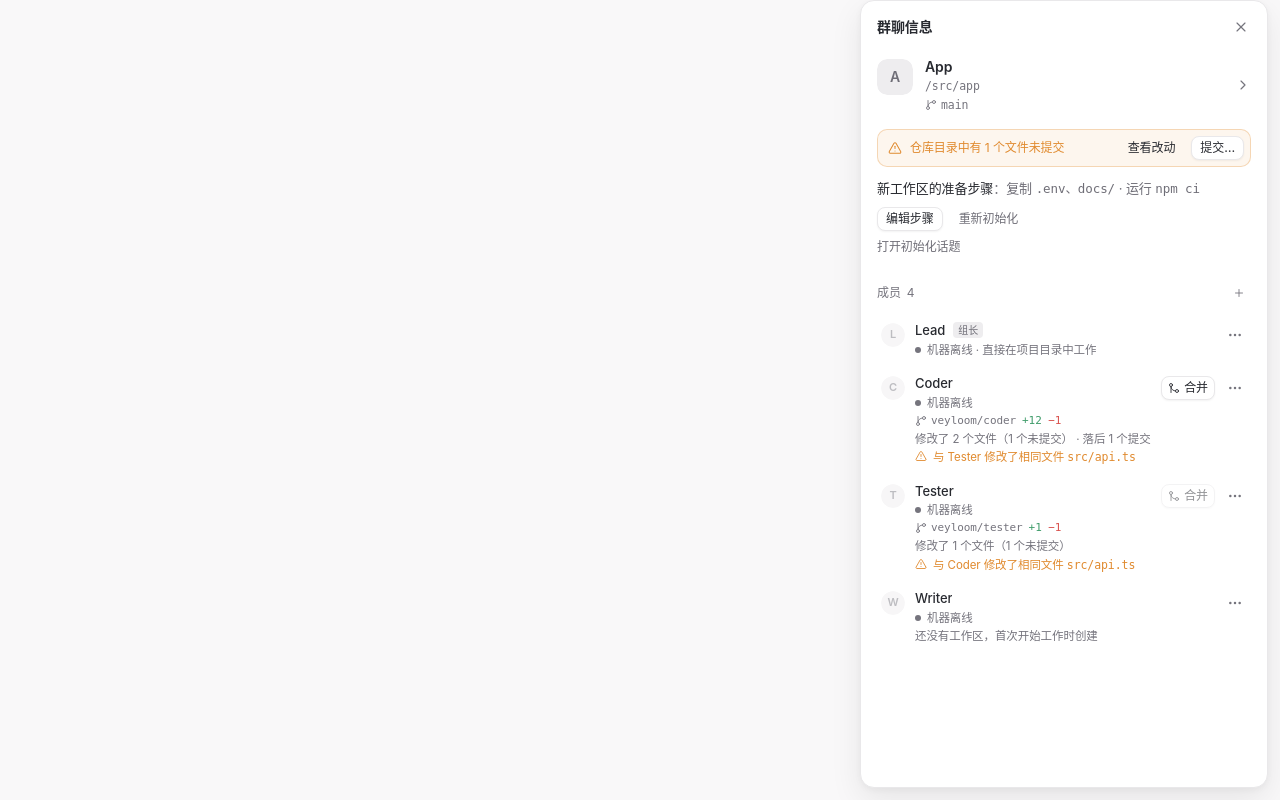
Test case: branches in the chat’s info › merges a member’s work, naming the work on its branch and the files another member changed too
The width and height of the screenshot is (1280, 800).
Click the 1st button "合并" at coordinates (1188, 388), box [1161, 376, 1215, 400]
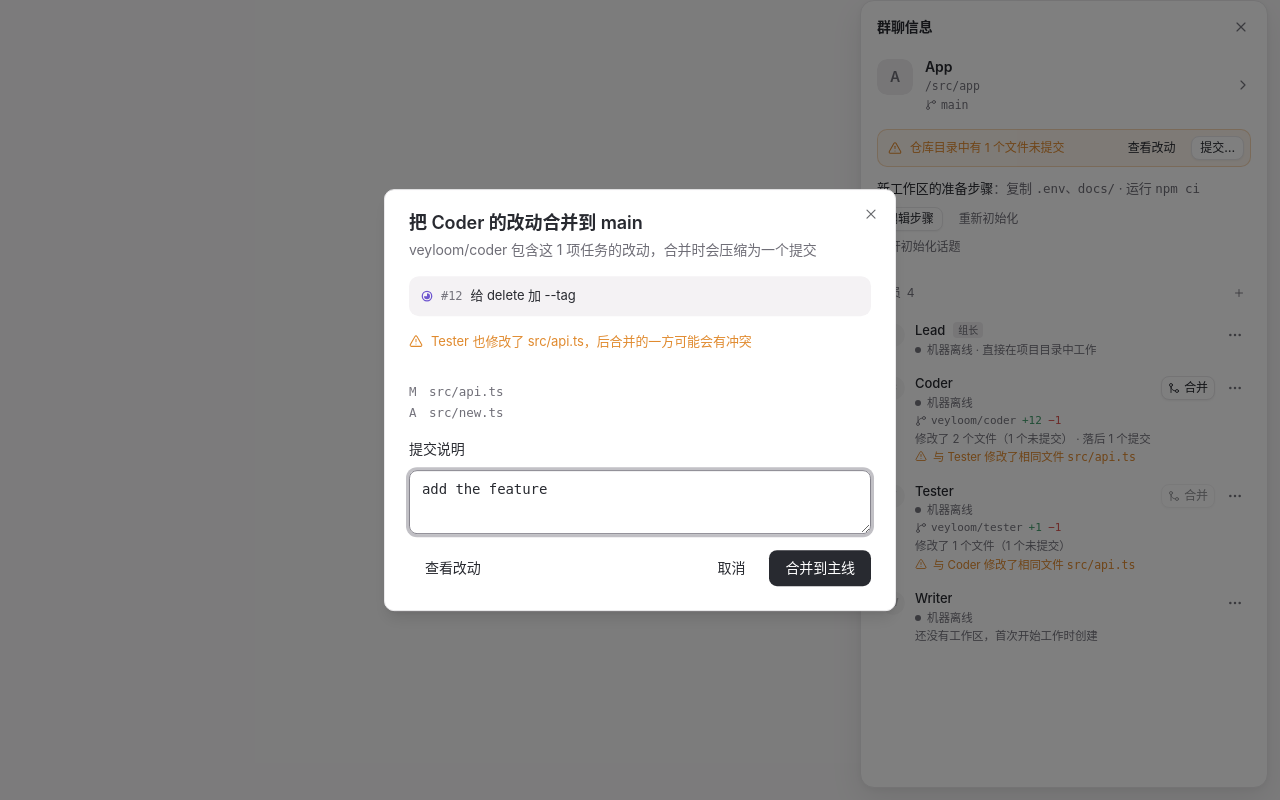
Result: the text "veyloom/coder 包含这 1 项任务的改动，合并时会压缩为一个提交" is shown at [409, 240, 871, 260]
Result: the text "Tester 也修改了 src/api.ts，后合并的一方可能会有冲突" is shown at [431, 332, 752, 351]
Result: the text "src/new.ts" is shown at [429, 404, 504, 423]
Replace the text in the text box labelled "提交说明" with "Add the feature (Coder)" at coordinates (640, 502), box [409, 470, 871, 534]
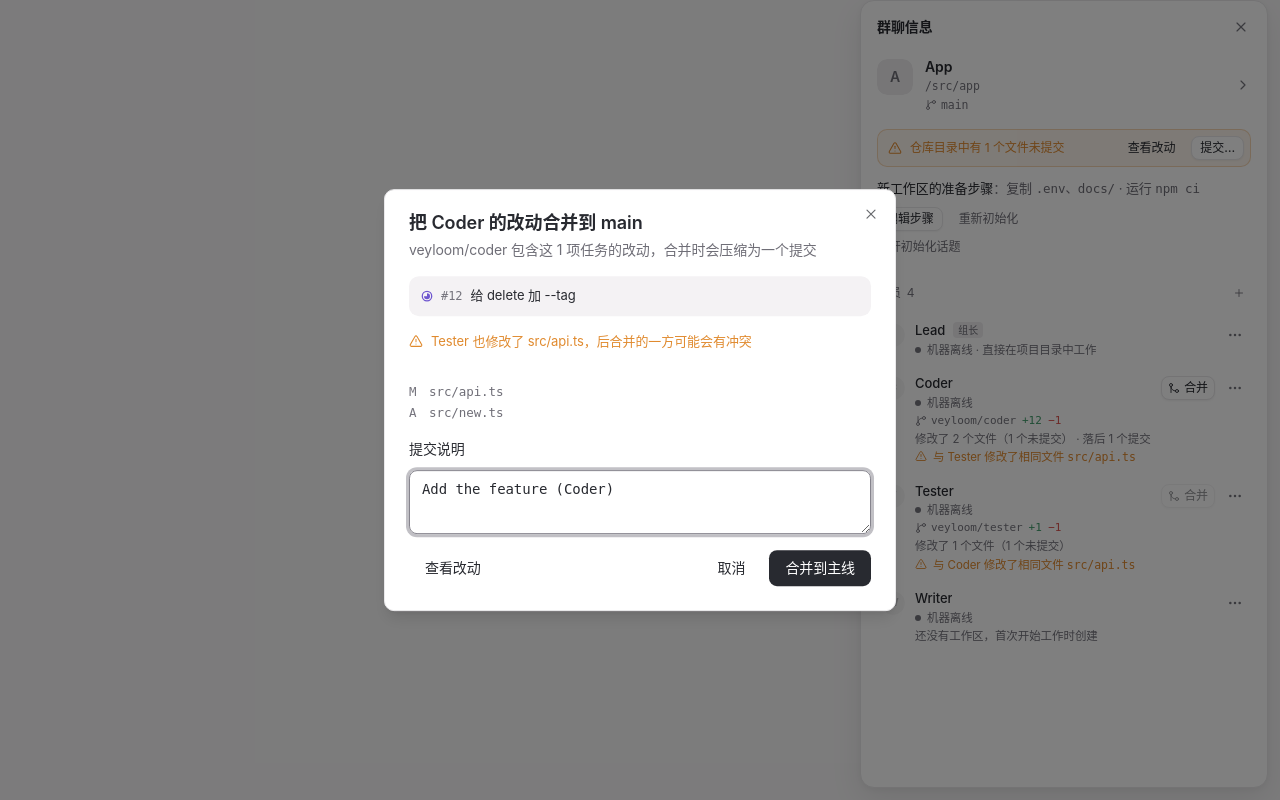
Click the button "合并到主线" at coordinates (820, 568), box [769, 550, 871, 586]
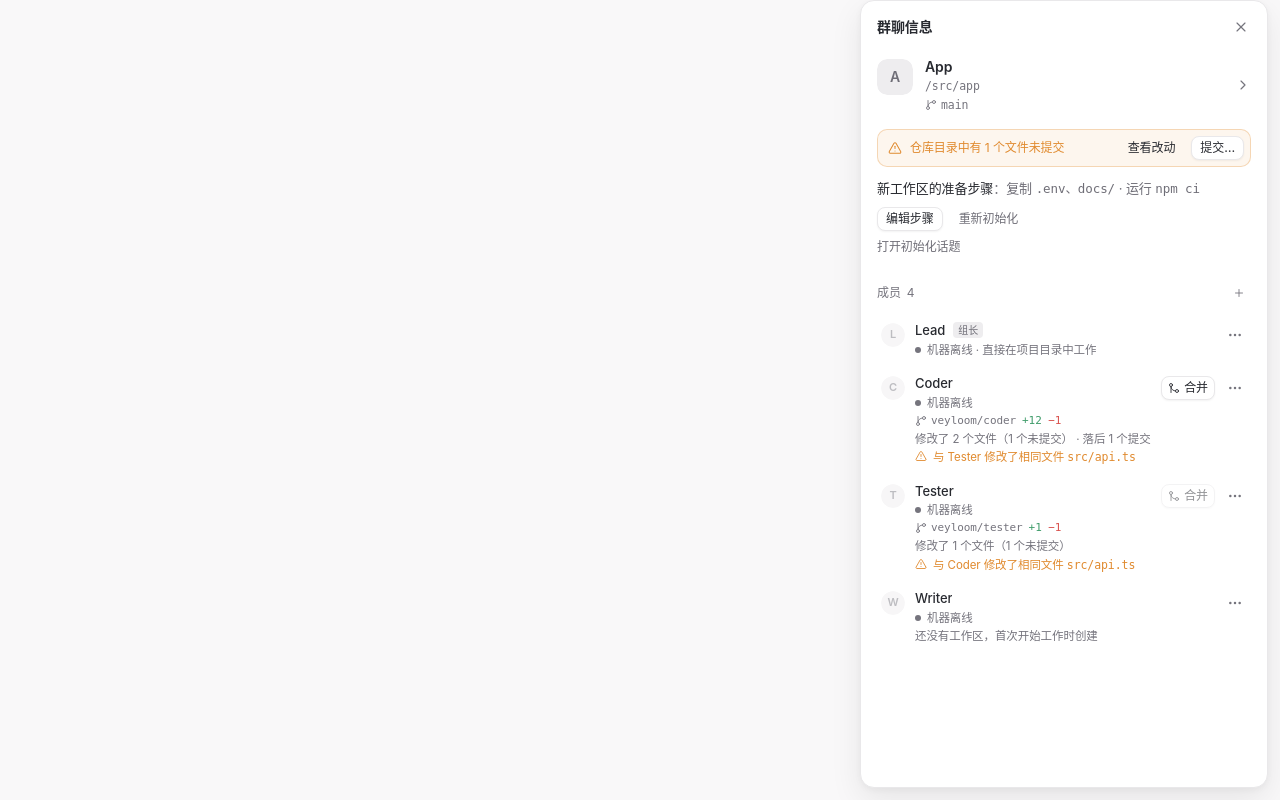
Result: the dialog is gone
